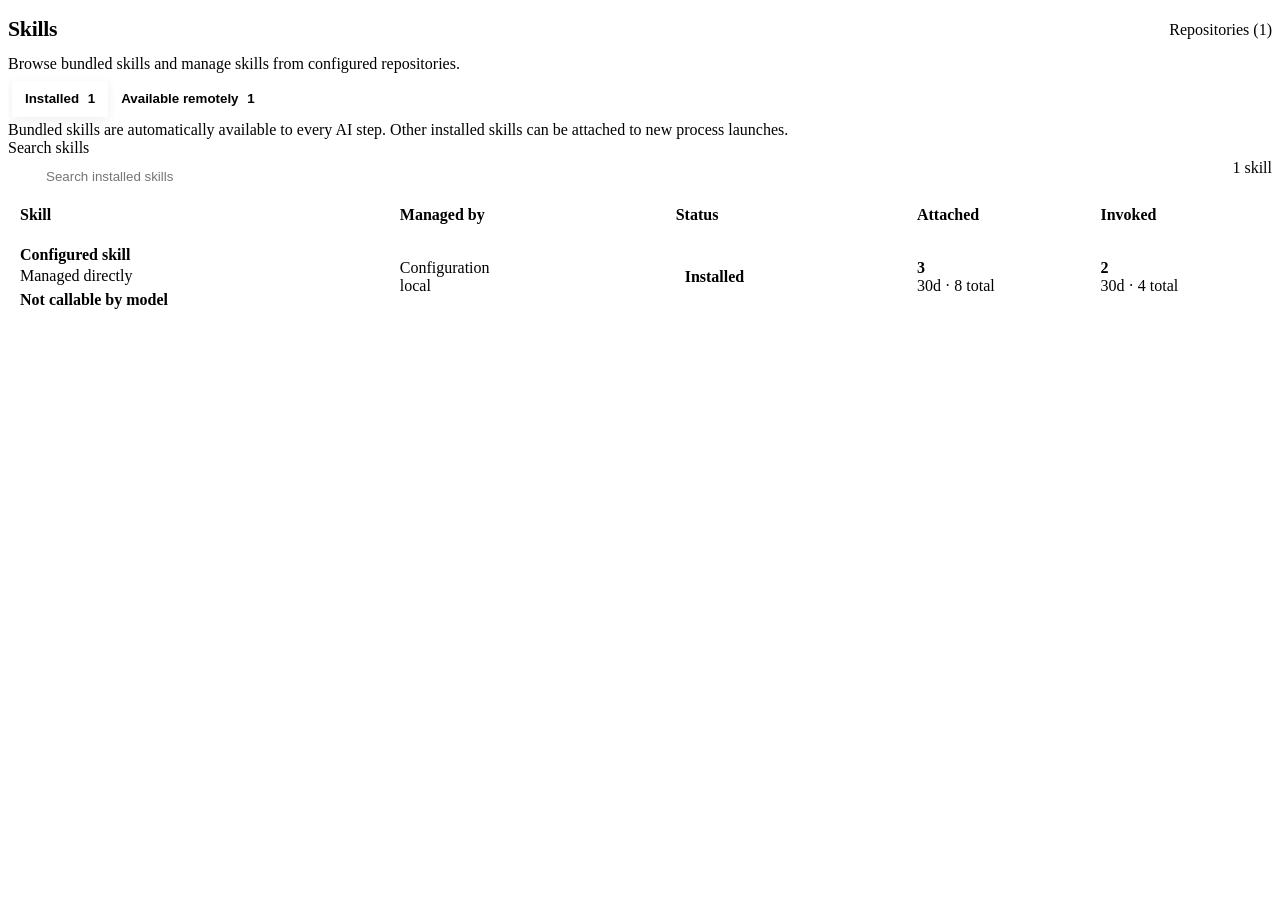
SkillsPage › separates installed skills from remote candidates and displays configured repositories in a modal popup
Expected: the text "Review changes" is not shown
Click the button "Repositories (1)" at (1221, 30), box left=1169, top=8, right=1272, bottom=52
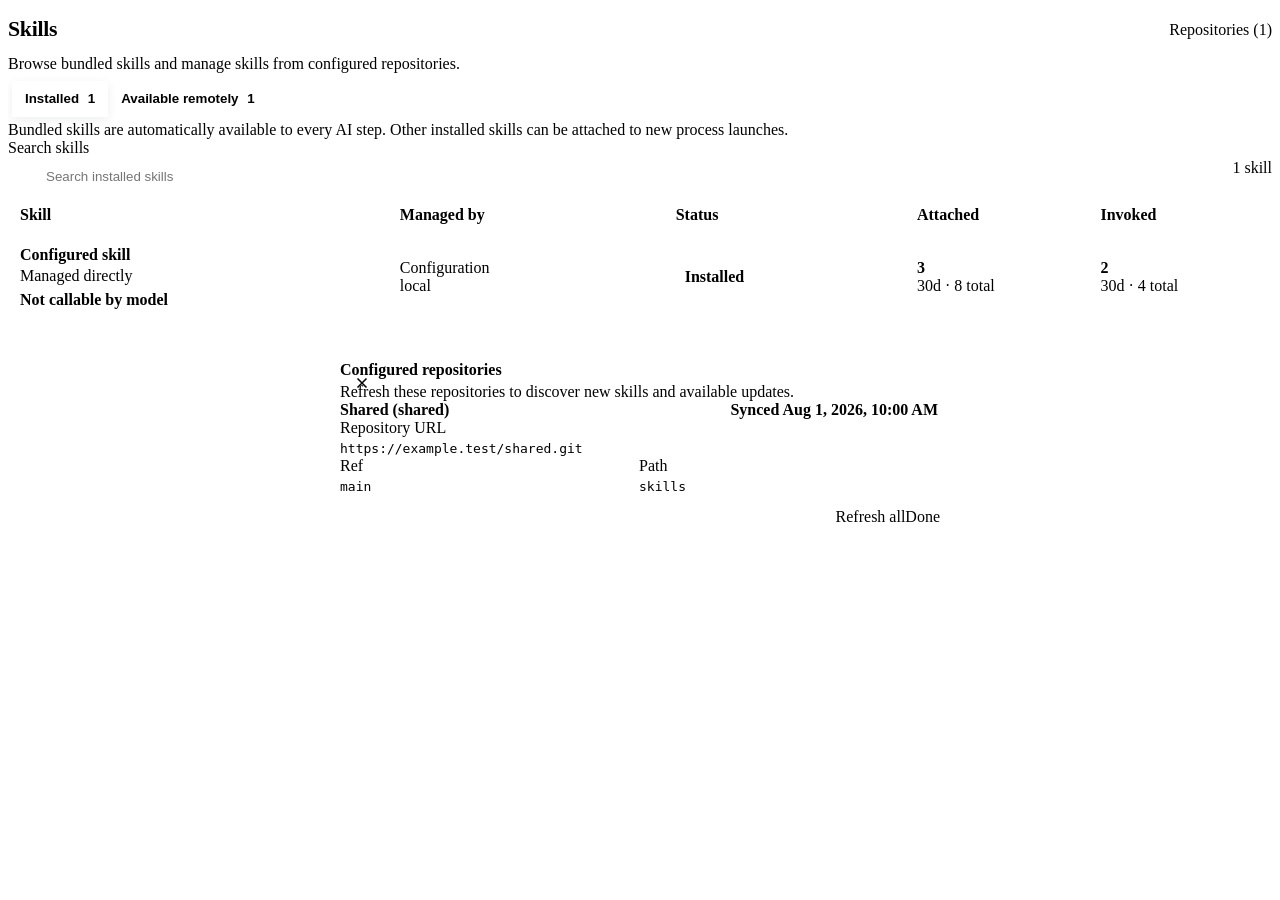
Expected: the dialog is shown, left=340, top=361, right=940, bottom=539
Expected: the dialog shows "Shared", left=340, top=401, right=449, bottom=418
Expected: the dialog shows "https://example.test/shared.git", left=340, top=441, right=583, bottom=456
Click the button named "Close configured repositories" at (362, 383), box left=340, top=361, right=384, bottom=405
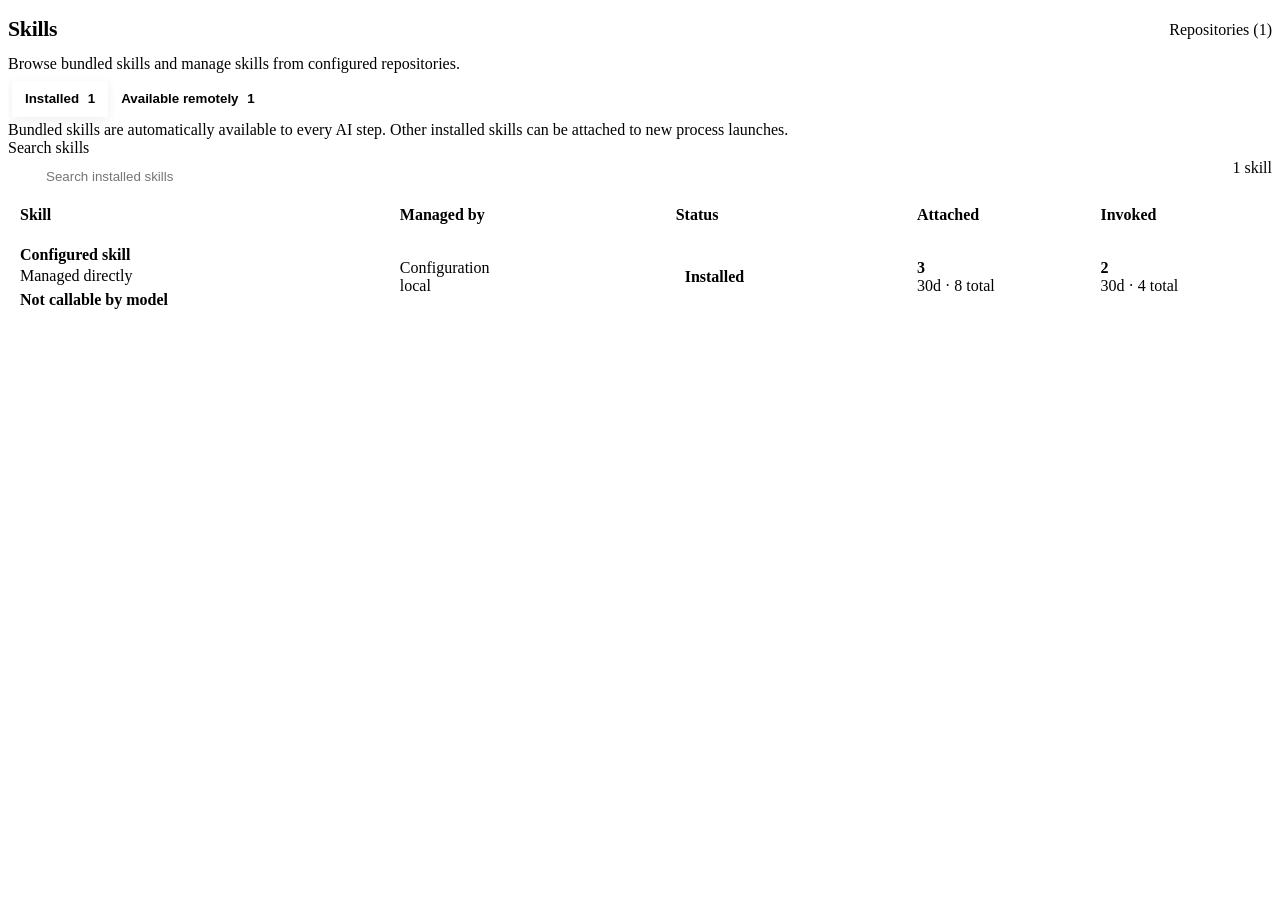
Expected: the button "Repositories (1)" is shown, left=1169, top=8, right=1272, bottom=52
Click the button "Available remotely 1" at (188, 99), box left=108, top=81, right=268, bottom=117
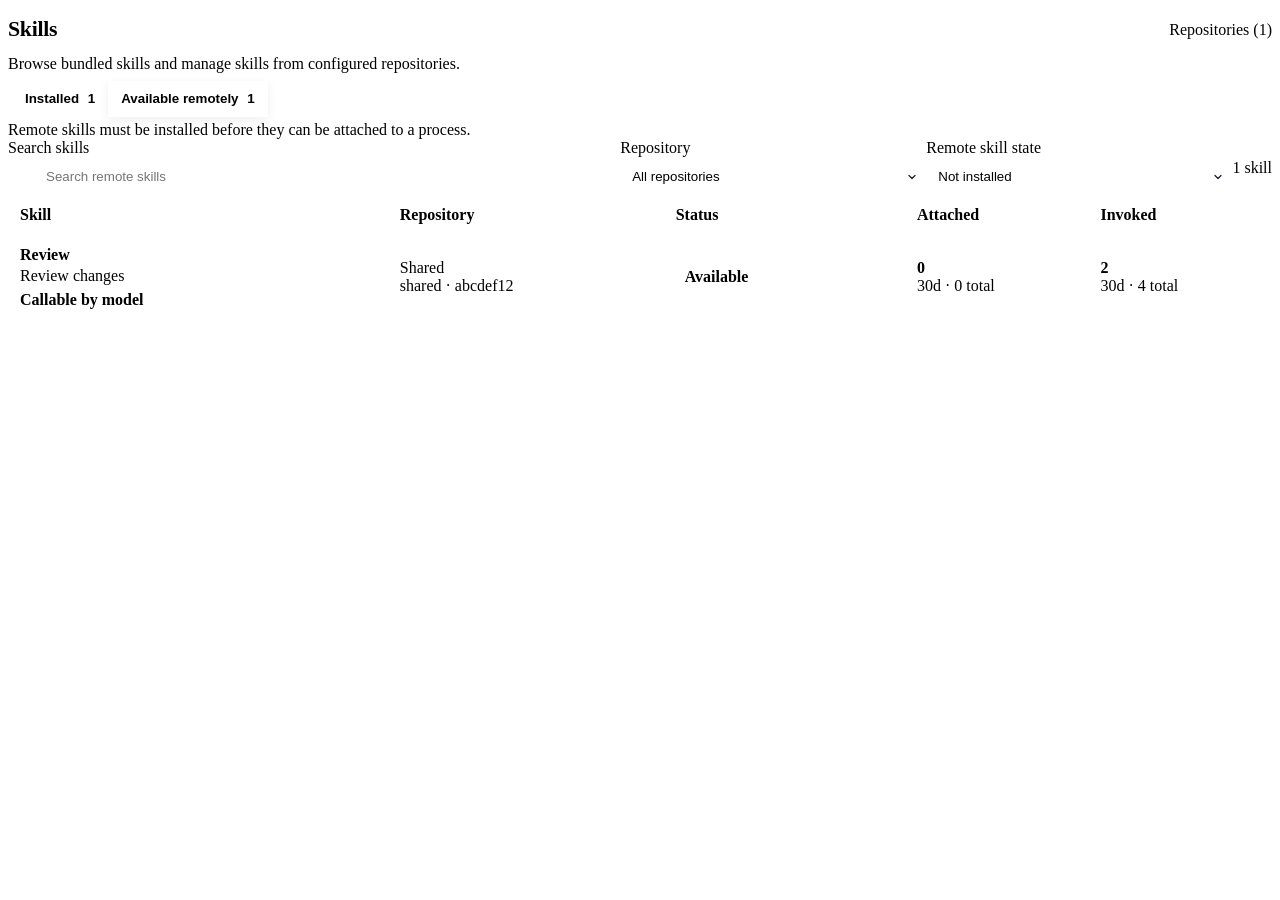
Expected: the text "Callable by model" is shown, left=20, top=291, right=144, bottom=308
Expected: the text "Review changes" is shown, left=20, top=267, right=124, bottom=284
